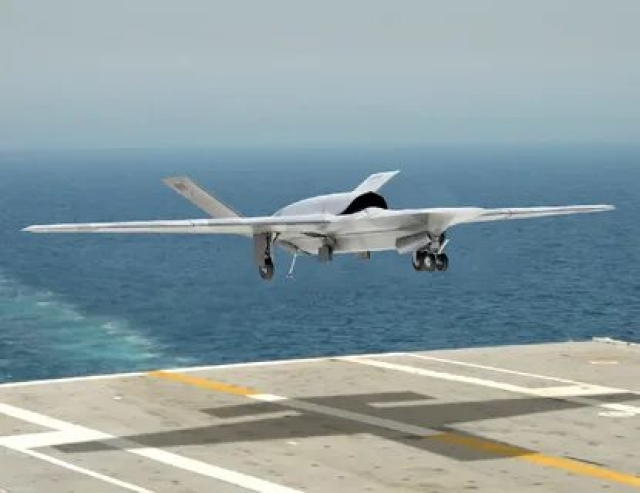military drone: (21, 170, 616, 281)
